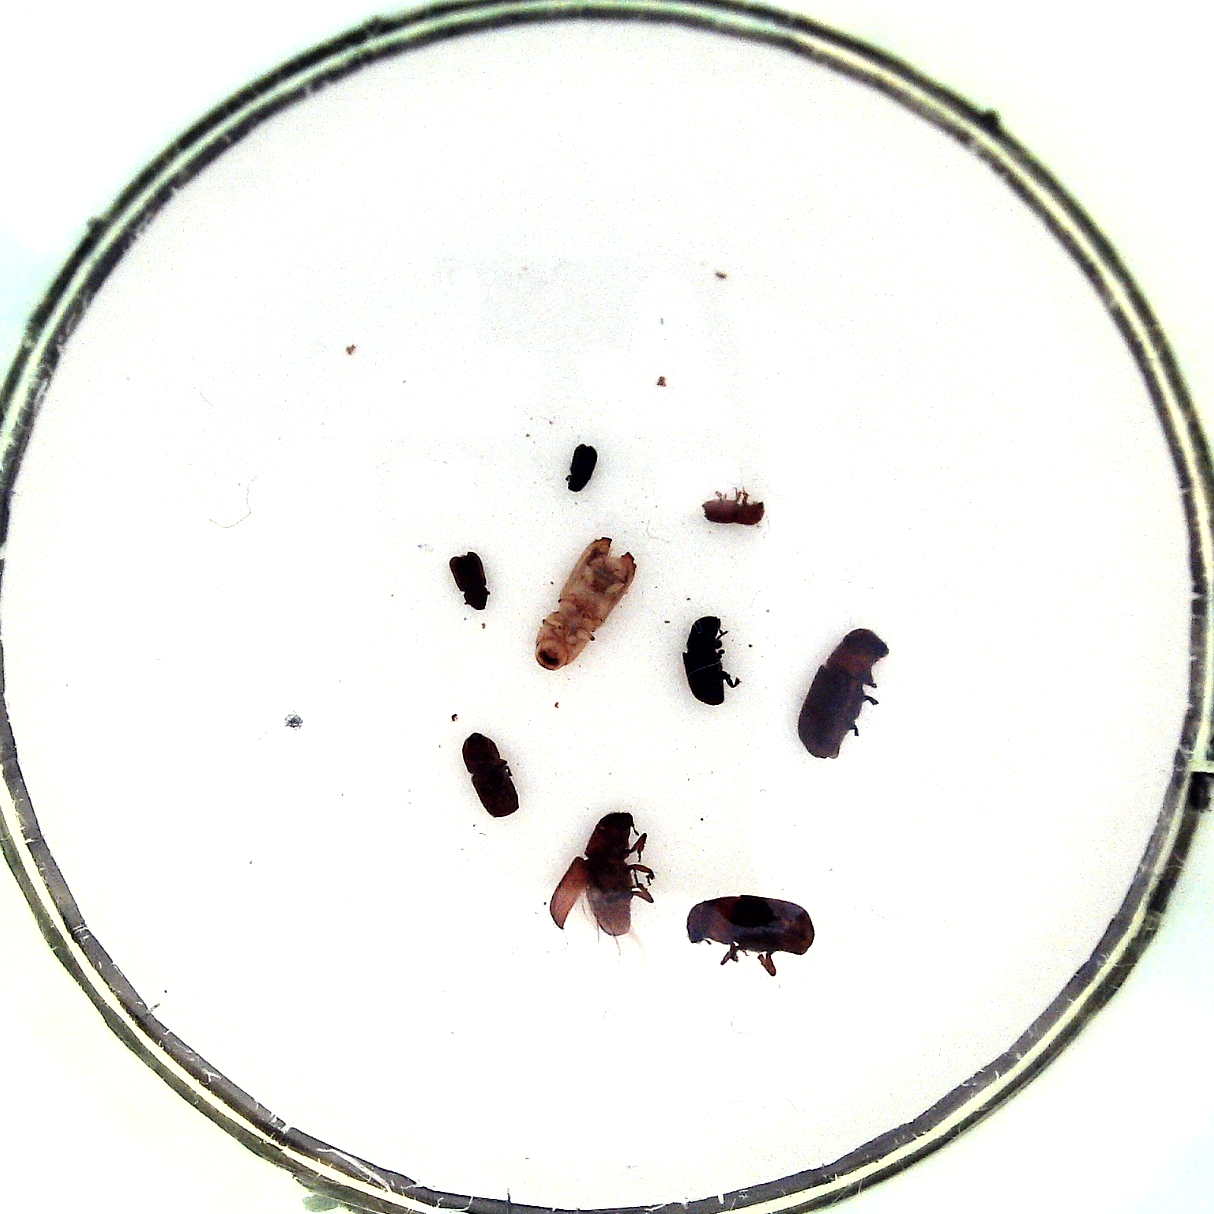Boerner: (535, 537, 636, 670)
Leconte: (798, 628, 889, 760), (685, 894, 814, 955), (583, 812, 633, 935)
acuminatus: (567, 444, 597, 491)
armandi: (681, 616, 727, 706)
coleoptera: (449, 550, 488, 611), (700, 498, 764, 525)
linnaeus: (462, 733, 518, 817)
